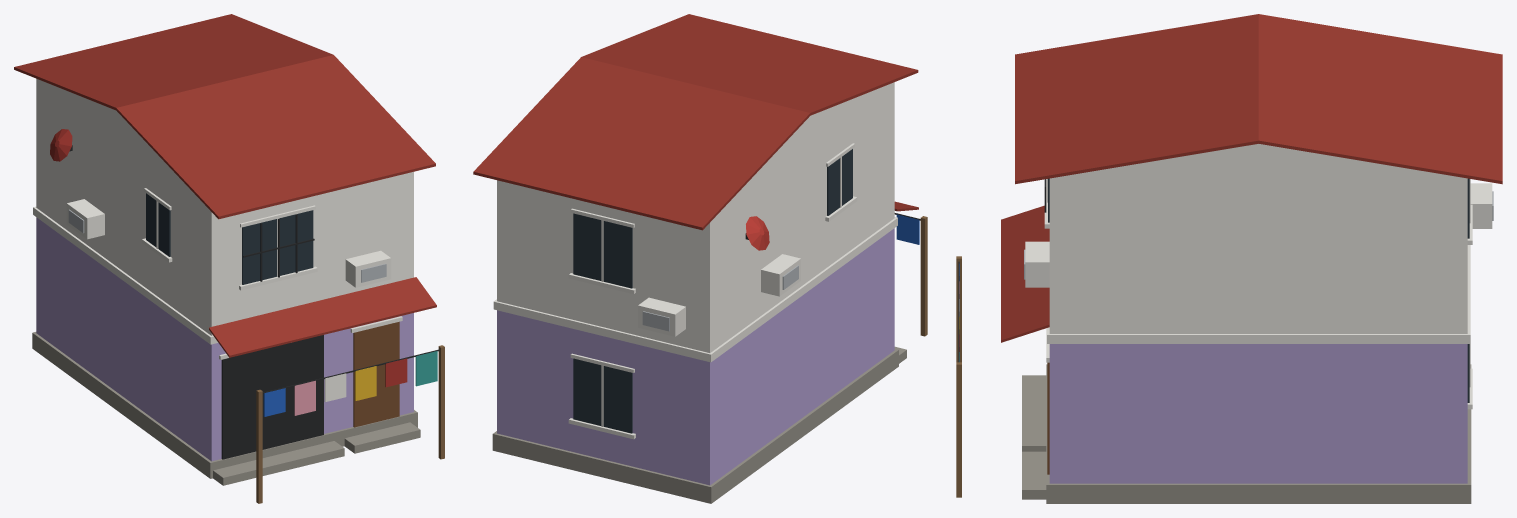
File: BAY_F_TwoStorey_H.glb
3 renders of one model, left to right at view 1: azimuth 30°, elevation 25°; view 2: azimuth 150°, elevation 25°; view 3: azimuth 270°, elevation 25°, orthographic. The views are drawn at different scales.
Visible parts, largest first — view 1: BAY_F_TwoStorey_H; view 2: BAY_F_TwoStorey_H; view 3: BAY_F_TwoStorey_H.
Boxes of the visible parts, box(x1,y1,x2,y2) form: BAY_F_TwoStorey_H: box(14, 14, 444, 503); BAY_F_TwoStorey_H: box(473, 14, 927, 503); BAY_F_TwoStorey_H: box(956, 14, 1502, 503).
Bounding box in the file's own units: 4.52 × 5.8 × 7.84.
Materials: 1 (1 with a texture image).
